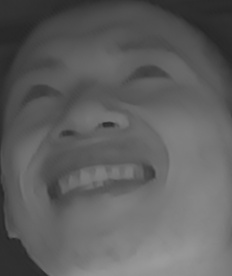eye: (122, 59, 177, 93), (16, 74, 61, 107)
mouth: (38, 150, 162, 213)
